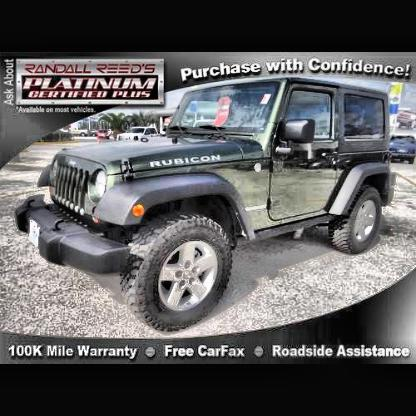Jeep Wrangler SUV 2012: (13, 76, 399, 339)
